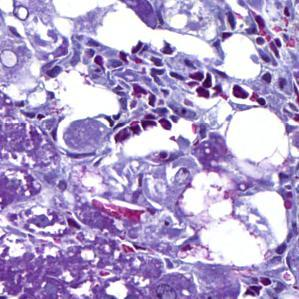ballooning: (224, 103, 290, 176)
